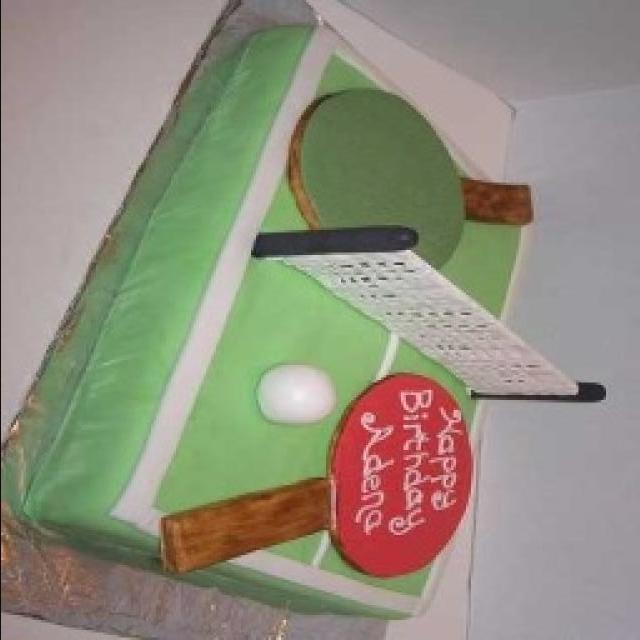ping-pong-ball: (252, 362, 334, 428)
